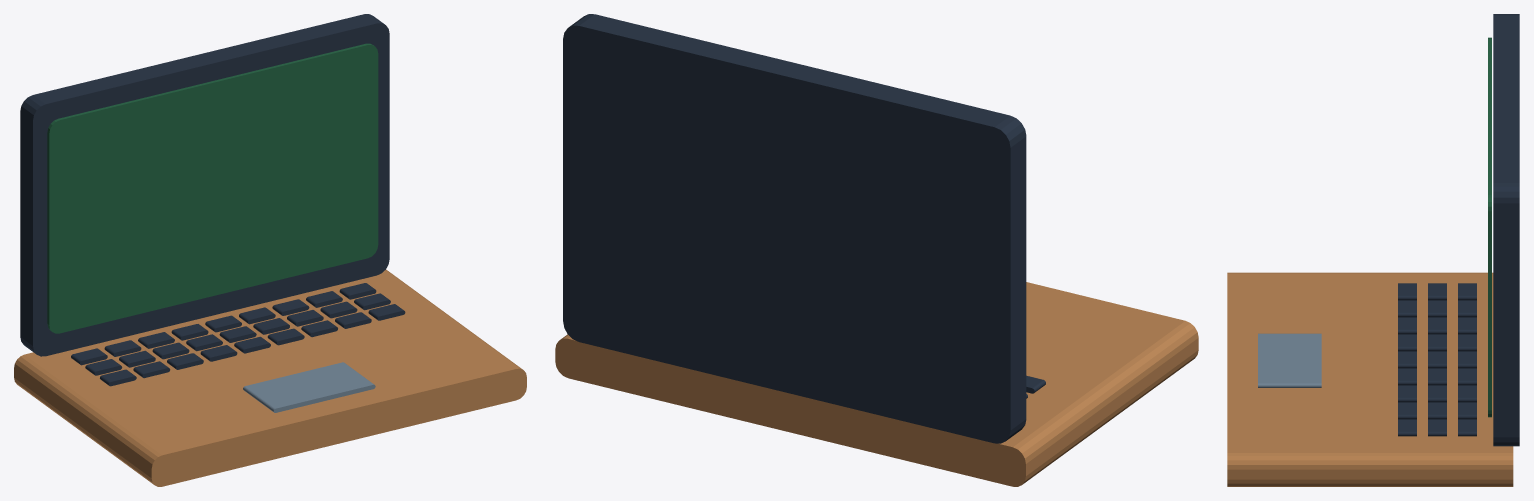
File: laptop.glb
3 renders of one model, left to right at view 1: azimuth 30°, elevation 25°; view 2: azimuth 150°, elevation 25°; view 3: azimuth 270°, elevation 25°, orthographic. The views are drawn at different scales.
Parts seen in each view (by area): view 1: display glass, base, display bezel, trackpad; view 2: display bezel, base; view 3: base, display bezel, trackpad, display glass, key 0-0, key 0-1, key 0-2, key 0-3, key 0-4, key 0-5, key 0-6, key 0-7 (+19 smaller).
Part boxes in pixels (x1,y1,x2,y2): display glass: (47,43,378,333); base: (14,269,526,486); display bezel: (20,14,389,356); trackpad: (243,362,375,412); display bezel: (563,14,1026,443); base: (555,282,1198,486); base: (1227,272,1513,486); display bezel: (1493,14,1519,446); trackpad: (1258,333,1321,387); display glass: (1488,37,1491,417); key 0-0: (1458,283,1476,300); key 0-1: (1458,300,1476,317); key 0-2: (1458,317,1476,334); key 0-3: (1458,334,1476,351); key 0-4: (1458,351,1476,368); key 0-5: (1458,368,1476,385); key 0-6: (1458,385,1476,402); key 0-7: (1458,402,1476,419).
Bounding box in the file's own units: 1.62 × 1.18 × 1.05.
